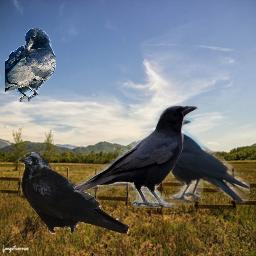Crow: (74, 105, 198, 208), (17, 152, 129, 234), (159, 113, 250, 206), (5, 28, 56, 102)
